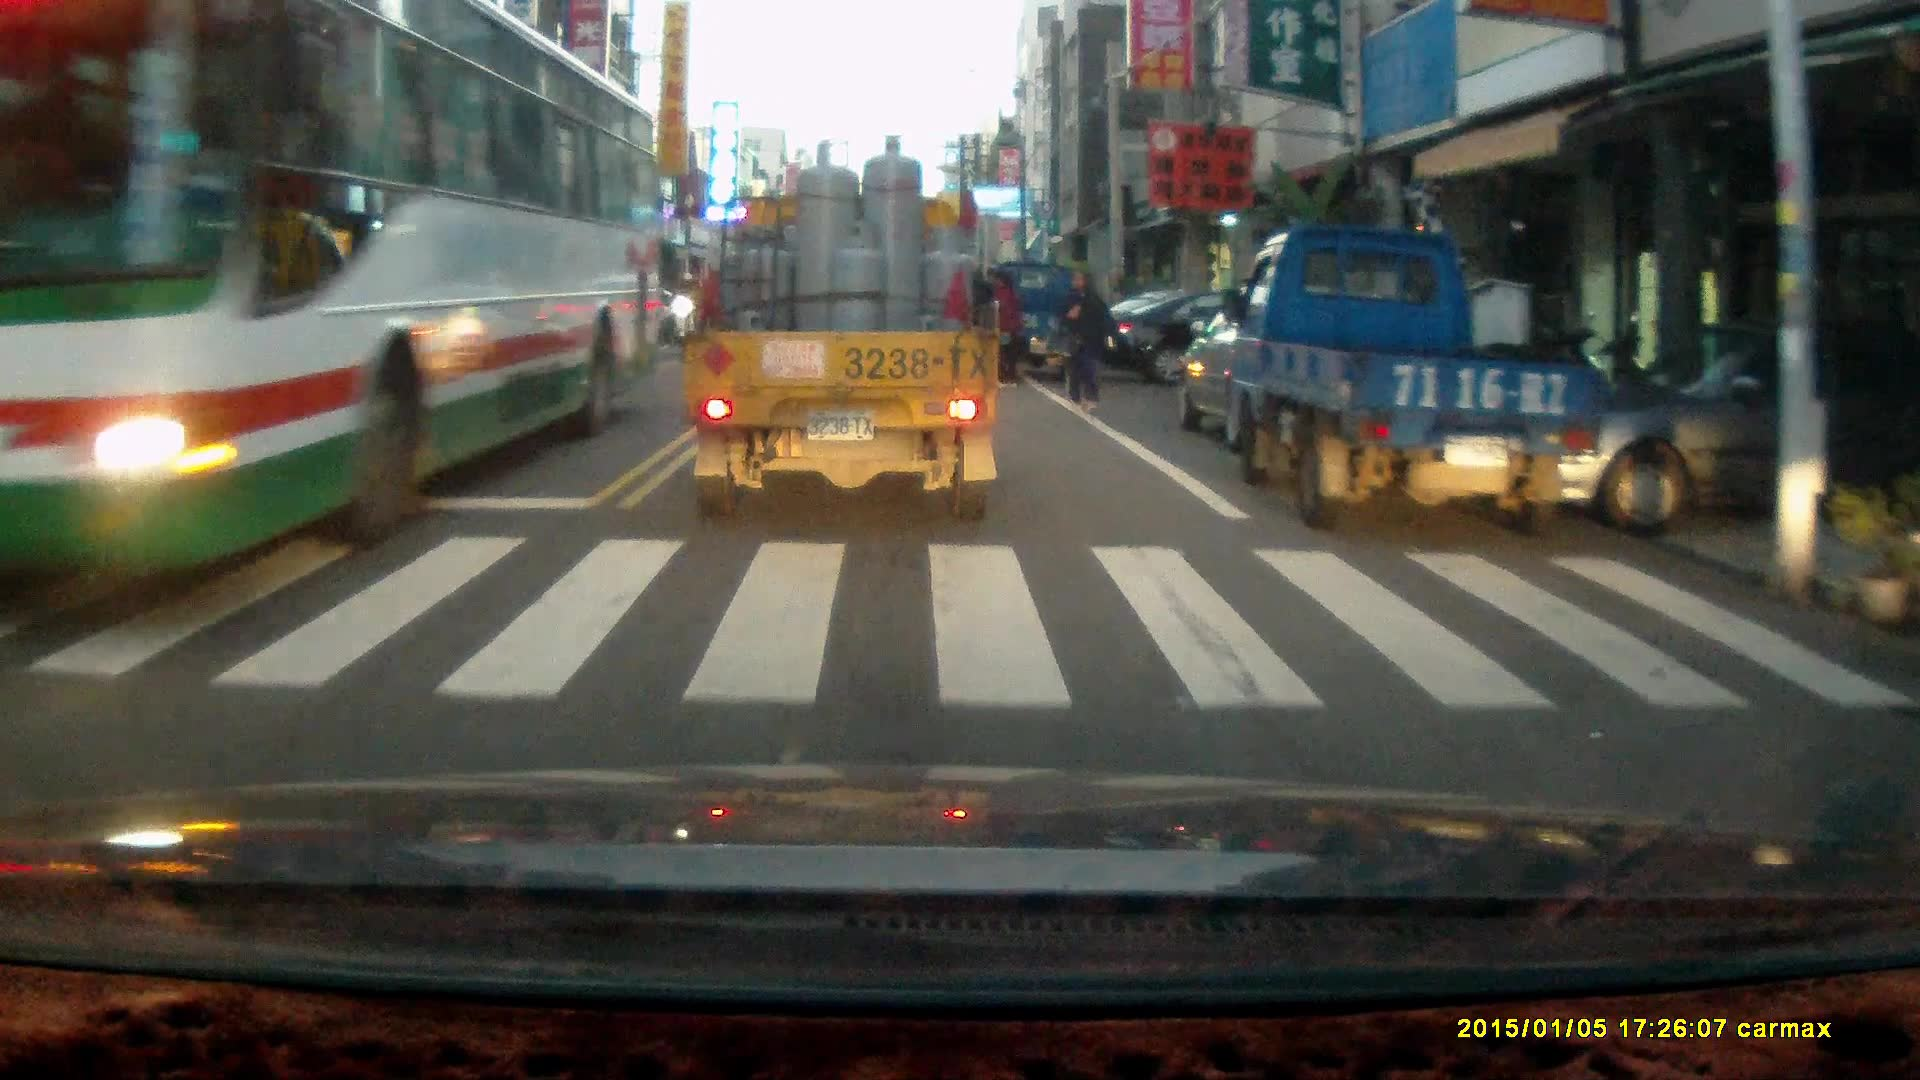pedestrian: (1059, 266, 1116, 410), (988, 265, 1023, 385)
rider: (665, 268, 702, 358)
vehicle: (1, 17, 653, 578), (681, 132, 1007, 527), (1215, 219, 1605, 533), (1107, 271, 1340, 386), (983, 260, 1102, 385)
